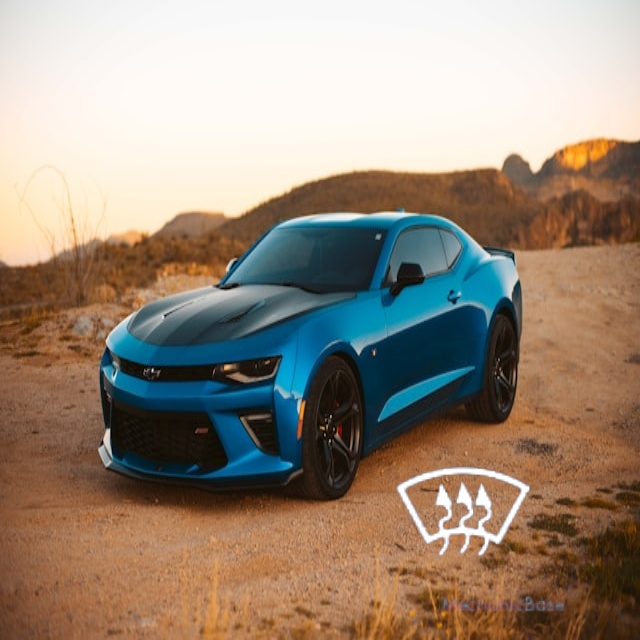symbol: (357, 406, 573, 622)
